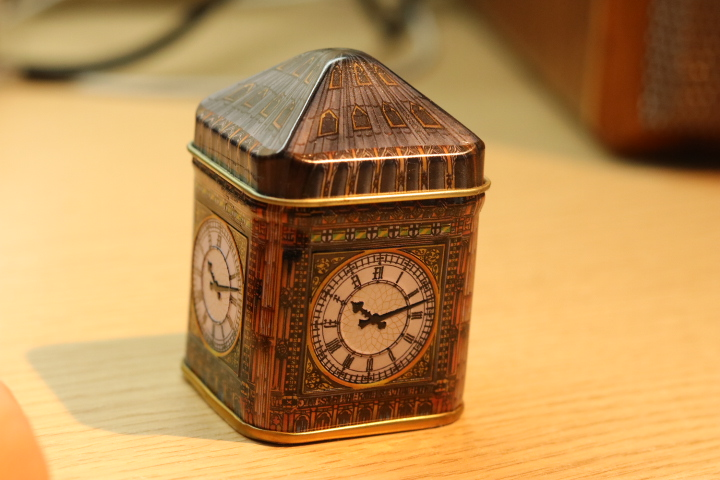Big Ben: (176, 40, 503, 449)
